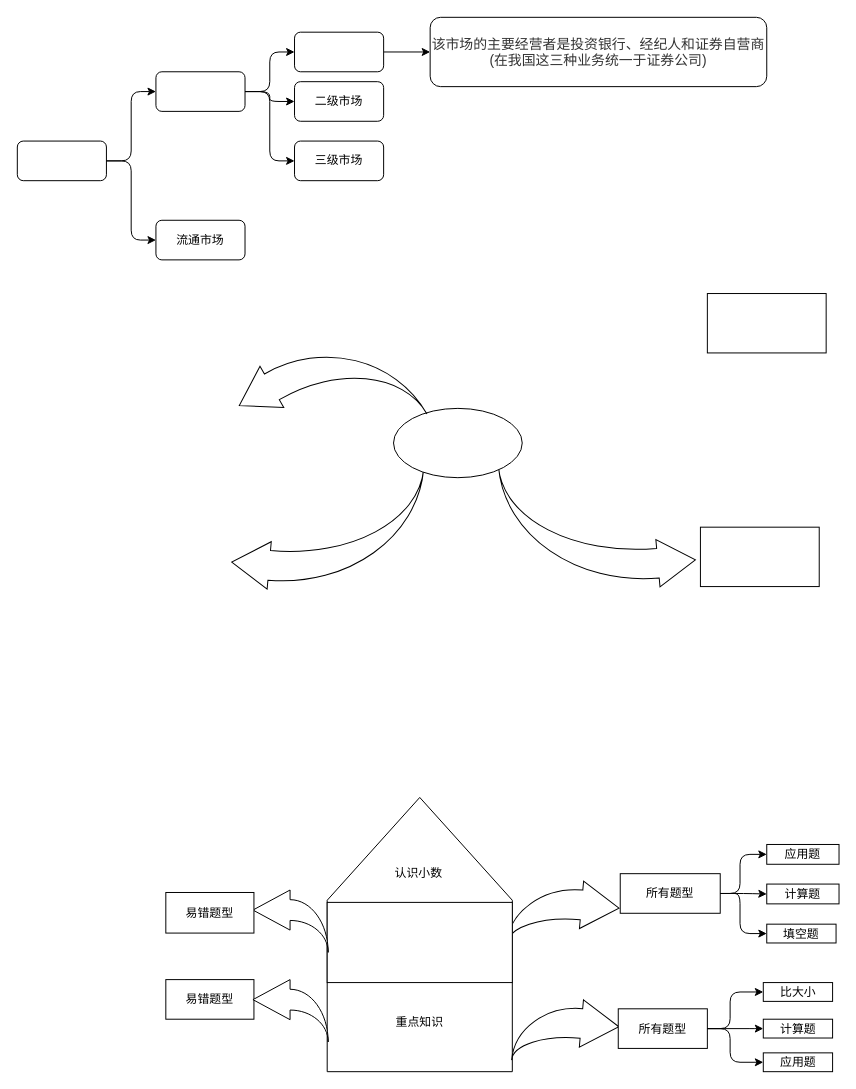
The diagram is 856 pixels wide and 1089 high, and some of its shapes have lost their labels. The box of each missing label's shape, as (x1, y1, x2, y2) in pixels:
一级市场: (294, 31, 384, 72)
发行市场: (155, 71, 245, 111)
基础知识: (326, 901, 512, 983)
股票市场: (16, 140, 106, 181)
